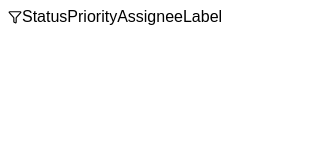
Scenario: FilterBar › opens assignee dropdown and shows members
Click the button with aria-label "Filter by Assignee".
click(150, 17)  # box [117,8,183,26]
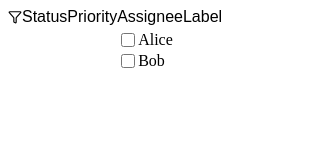
Expected: the text "Alice" is shown, [138,31,173,49]
Expected: the text "Bob" is shown, [138,52,165,70]
